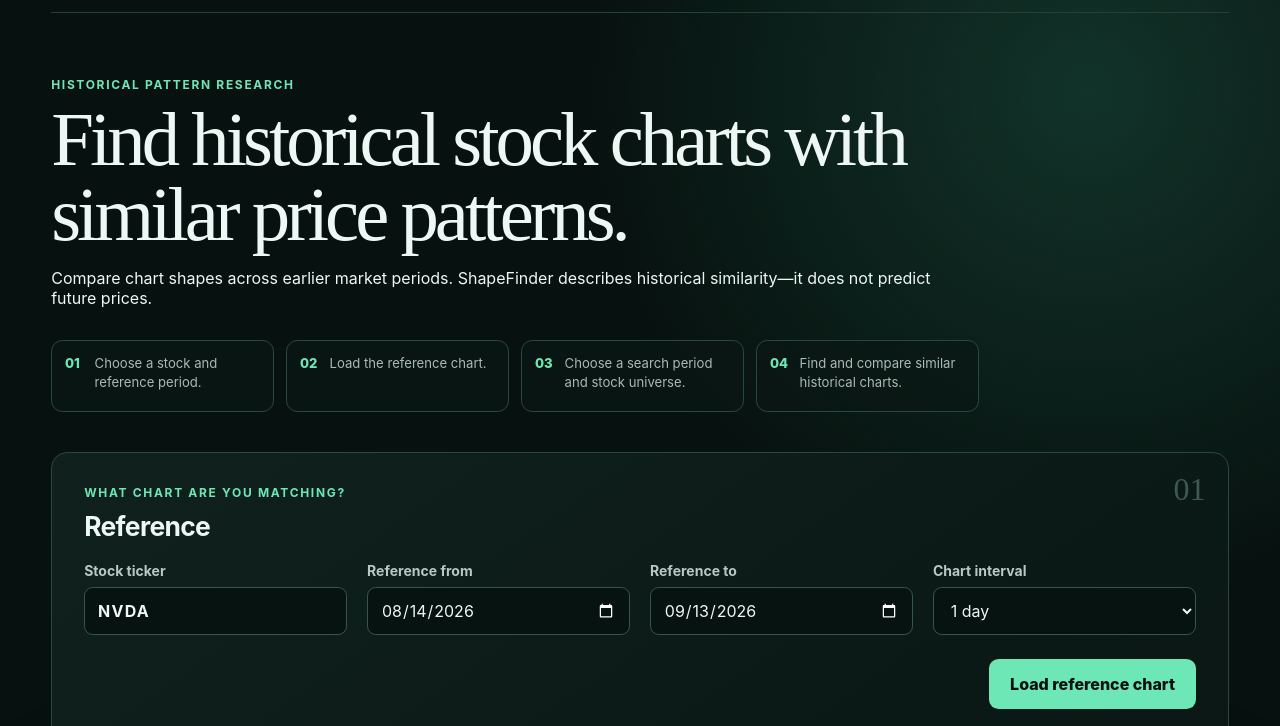
it: reference workflow › maps reference PROVIDER_RATE_LIMITED safely
The width and height of the screenshot is (1280, 726).
In the date field labelled "Reference from": (499, 611) [367,587,630,635], type "2025-01-01"
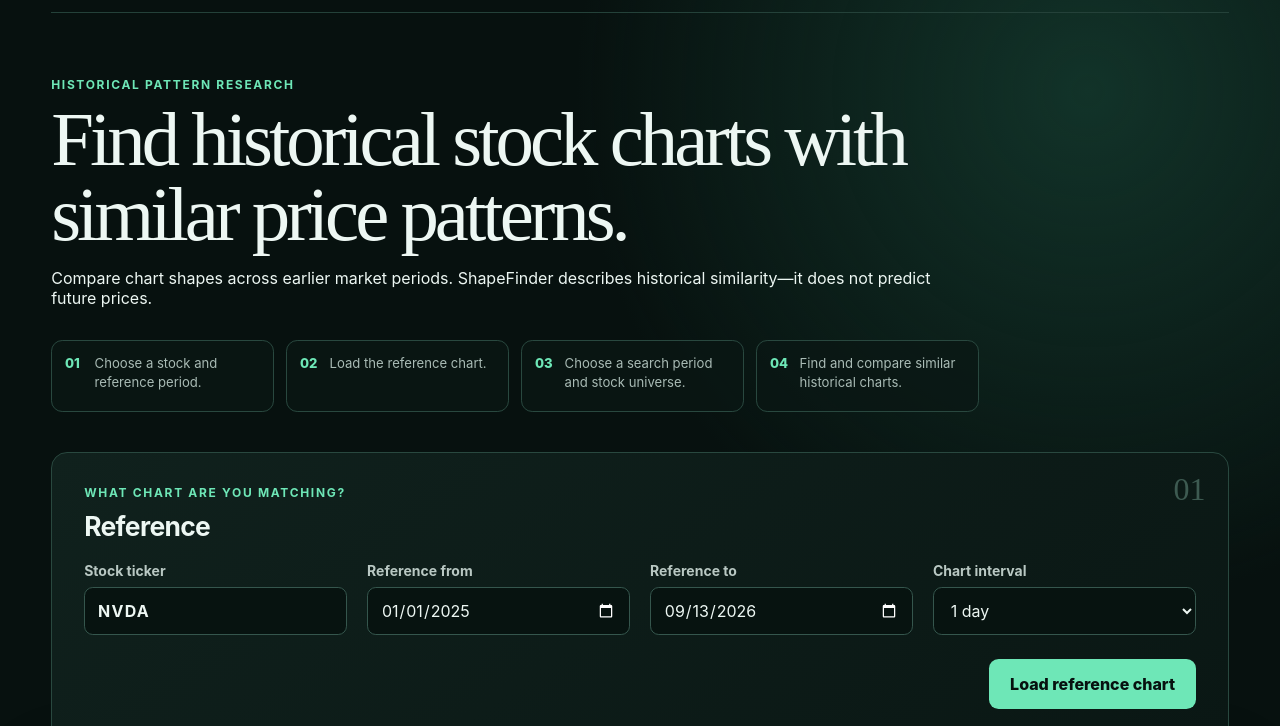
In the date field labelled "Reference to": (781, 611) [650,587,913,635], type "2025-01-04"
(page scrolled)
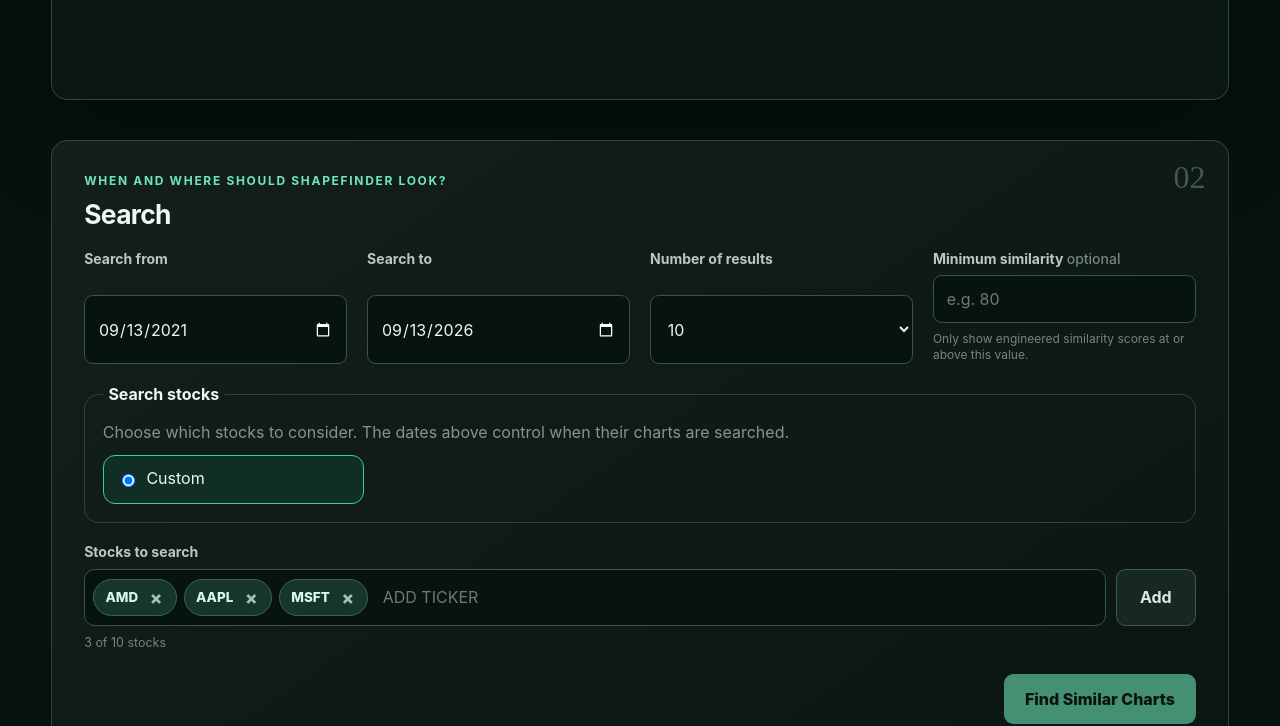
In the date field labelled "Search from": (216, 330) [84,296,347,364], type "2020-01-01"
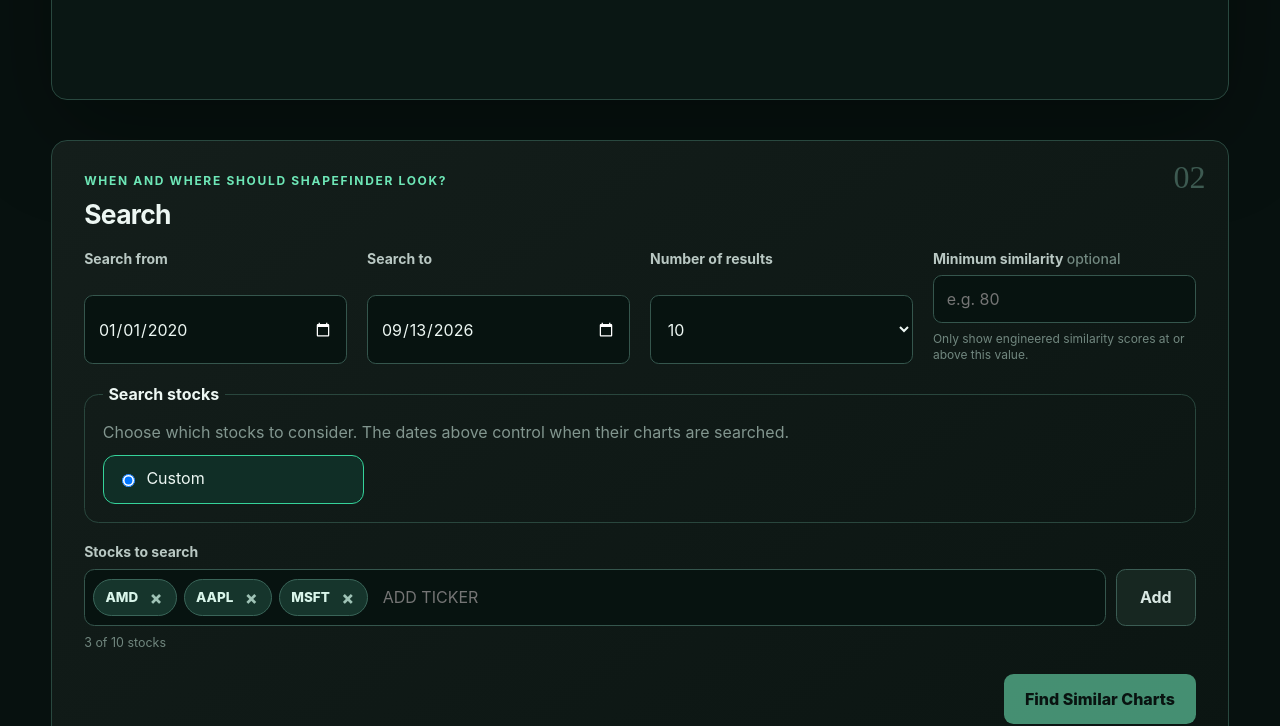
In the date field labelled "Search to": (499, 330) [367,296,630,364], type "2025-01-04"
(page scrolled)
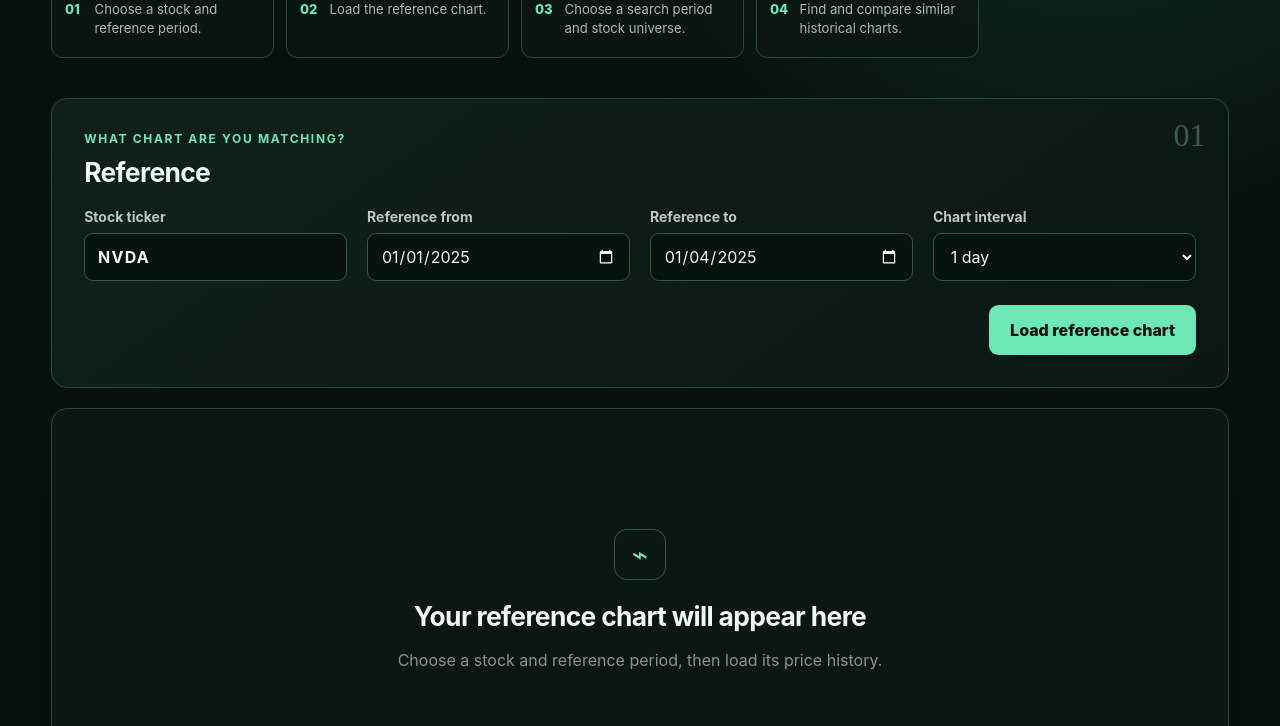
Click the button "Load reference chart": (1093, 330) [989,305,1196,355]
(page scrolled)
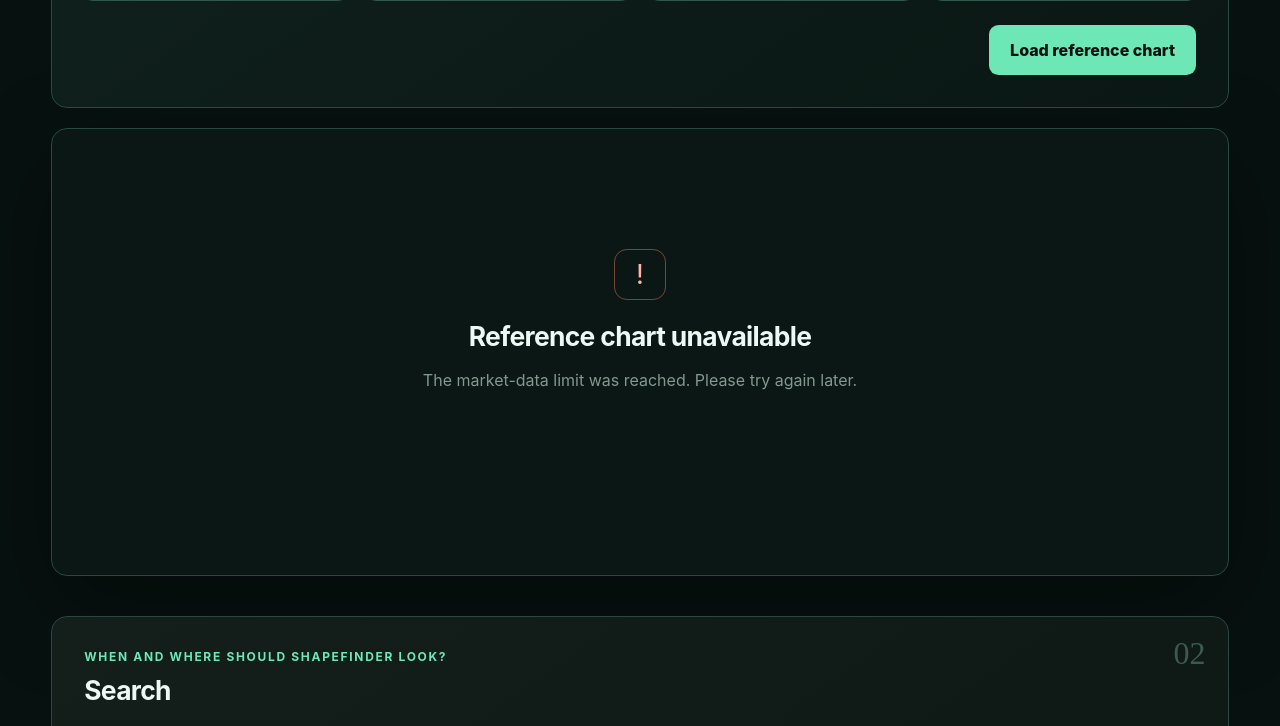
Now the message shows "market-data limit was reached", box [423,370,857,390]
